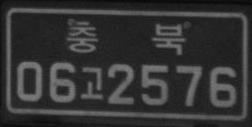0: (15, 60, 43, 101)
2: (107, 62, 135, 106)
5: (140, 62, 169, 106)
6: (208, 64, 238, 109), (47, 61, 77, 103)
7: (174, 63, 203, 107)
고: (79, 64, 104, 101)
충북_D: (67, 19, 187, 55)
